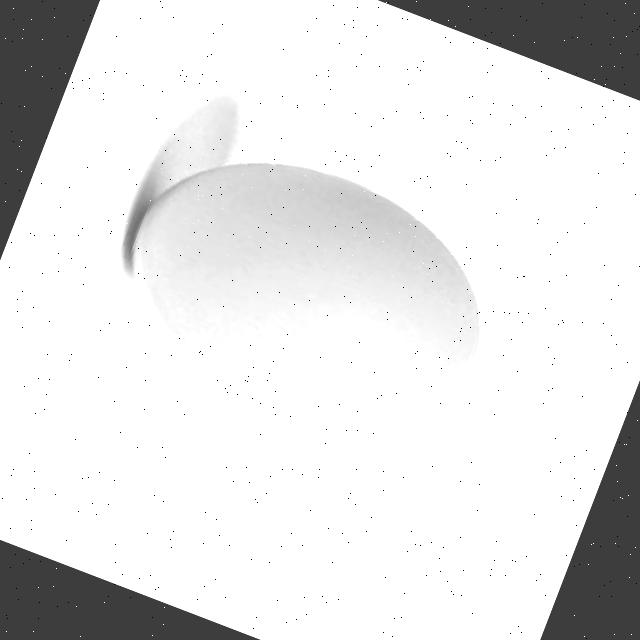ping-pong-ball: (96, 113, 523, 470)
